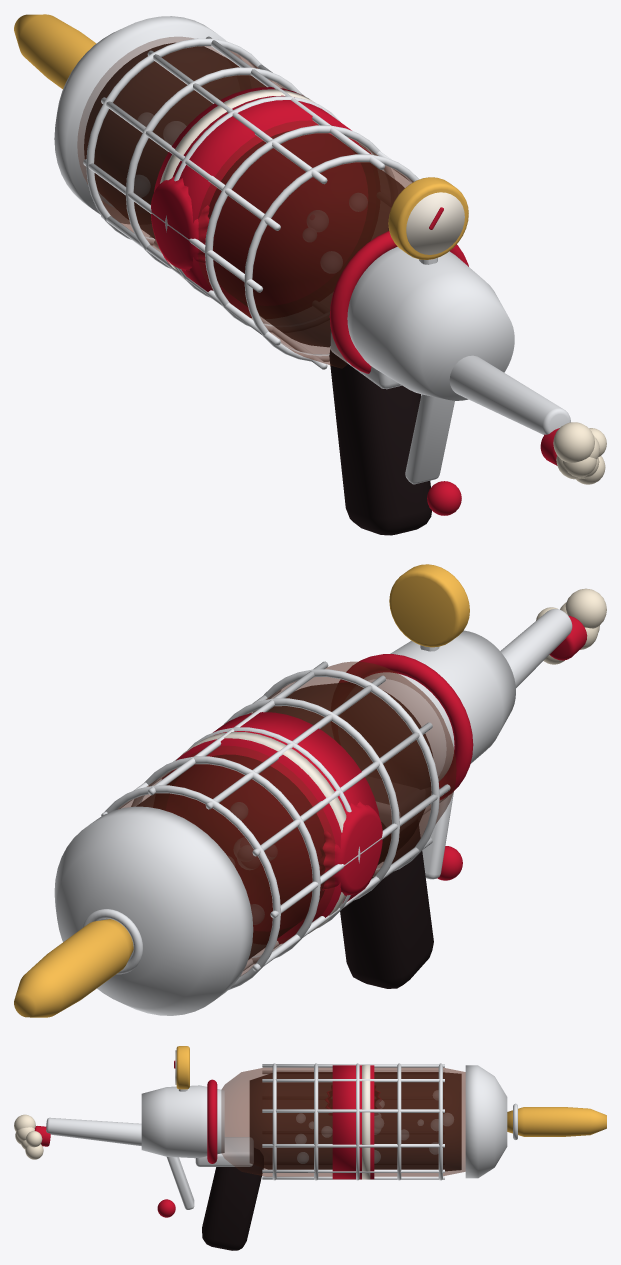
File: gazyava.glb
3 renders of one model, top to bottom at view 1: azimuth 30°, elevation 25°; view 2: azimuth 150°, elevation 25°; view 3: azimuth 270°, elevation 25°, orthographic. The views are drawn at different scales.
Parts seen in each view (by area): view 1: Бутылка сифона, Кола внутри.001, Красный пояс, Голова сифона, Рукоять.003, Задняя заглушка, Носик, Эмблема.001, Баллончик CO₂, Кольцо головы, Рычаг сифона, Обруч сетки 5 (+14 smaller); view 2: Бутылка сифона, Задняя заглушка, Кола внутри.001, Красный пояс, Голова сифона, Рукоять.003, Баллончик CO₂, Манометр, Кольцо головы, Эмблема.001, Носик, Обруч сетки 1 (+15 smaller); view 3: Бутылка сифона, Кола внутри.001, Голова сифона, Задняя заглушка, Рукоять.003, Красный пояс, Баллончик CO₂, Носик, Крепление рукояти, Волна на поясе, Кольцо головы, Пруток сетки 2 (+12 smaller).
Boxes of the visible parts, x1,y1,x2,y2 form: Бутылка сифона: (77, 37, 413, 368); Кола внутри.001: (84, 42, 404, 347); Красный пояс: (154, 87, 370, 317); Голова сифона: (347, 246, 514, 400); Рукоять.003: (329, 349, 431, 535); Задняя заглушка: (54, 16, 241, 224); Носик: (449, 355, 570, 434); Эмблема.001: (151, 176, 214, 270); Баллончик CO₂: (14, 14, 96, 89); Кольцо головы: (329, 231, 468, 373); Рычаг сифона: (405, 394, 454, 484); Обруч сетки 5: (244, 154, 419, 361); Бутылка сифона: (117, 661, 456, 976); Задняя заглушка: (54, 806, 253, 1015); Кола внутри.001: (136, 682, 433, 959); Красный пояс: (162, 712, 379, 943); Голова сифона: (364, 630, 515, 781); Рукоять.003: (340, 822, 433, 988); Баллончик CO₂: (14, 919, 133, 1017); Манометр: (389, 564, 469, 647); Кольцо головы: (339, 654, 473, 799); Эмблема.001: (319, 801, 382, 895); Носик: (500, 609, 572, 687); Обруч сетки 1: (105, 785, 280, 990); Бутылка сифона: (221, 1067, 465, 1176); Кола внутри.001: (249, 1072, 461, 1171); Голова сифона: (141, 1085, 224, 1158); Задняя заглушка: (465, 1065, 507, 1178); Рукоять.003: (202, 1148, 263, 1250); Красный пояс: (332, 1065, 374, 1179); Баллончик CO₂: (507, 1107, 606, 1136); Носик: (46, 1117, 141, 1145); Крепление рукояти: (195, 1137, 253, 1166); Волна на поясе: (362, 1065, 370, 1179); Кольцо головы: (207, 1079, 217, 1163); Пруток сетки 2: (262, 1109, 444, 1112).
Bounding box in the file's own units: 0.141 × 0.2642 × 0.7137.
